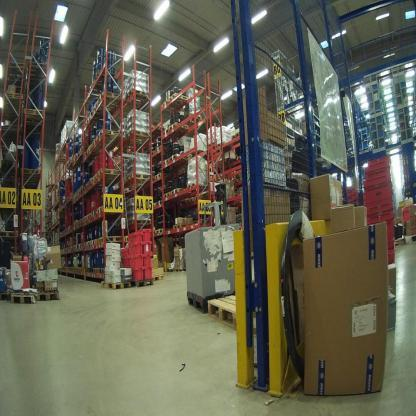pallets: (66, 166, 128, 207), (75, 125, 123, 162), (82, 93, 128, 130), (103, 273, 170, 298), (206, 295, 237, 325), (14, 162, 56, 183), (1, 290, 59, 303), (57, 267, 106, 282), (19, 102, 51, 124), (186, 290, 208, 313), (159, 151, 186, 169), (159, 186, 186, 203), (161, 90, 184, 109), (101, 235, 131, 247), (164, 118, 186, 134), (168, 224, 186, 232), (150, 228, 163, 238)
